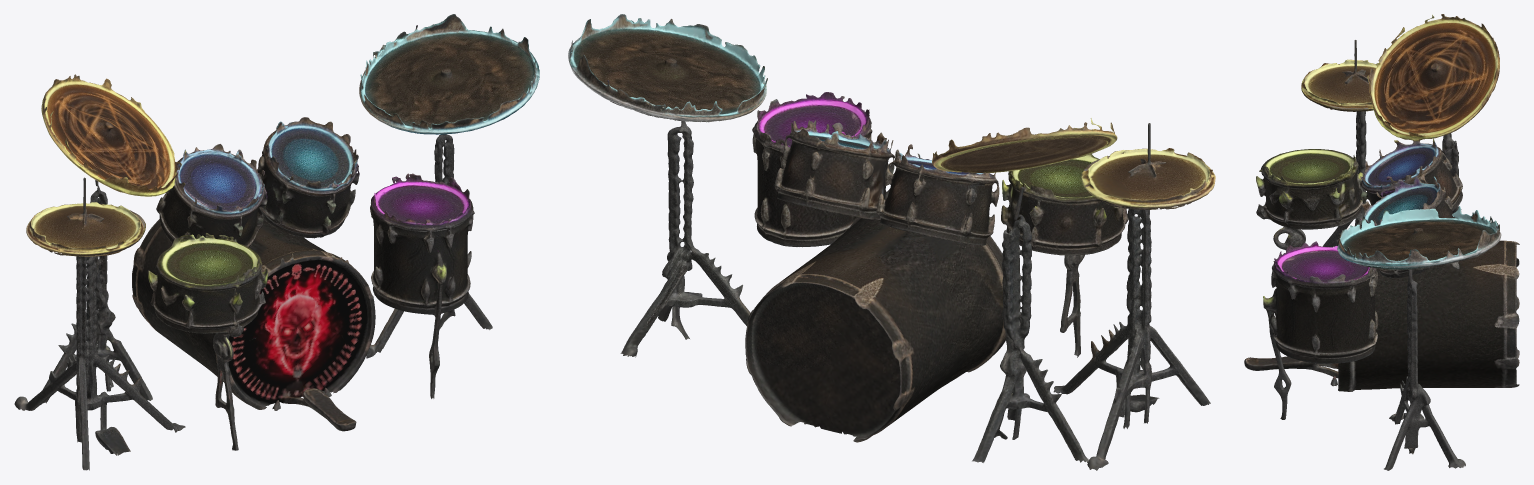
Rendered from bateria_pratos.glb.
The picture shows the model from 3 angles, left to right: view 1: azimuth 30°, elevation 25°; view 2: azimuth 150°, elevation 25°; view 3: azimuth 270°, elevation 25°; orthographic projection. The views are drawn at different scales.
Visible parts, largest first — view 1: kit_resto, ride, crash, chimbal; view 2: kit_resto, ride, chimbal, crash; view 3: kit_resto, crash, ride, chimbal.
Boxes of the visible parts, x1,y1,x2,y2 form: kit_resto: (14, 70, 492, 470); ride: (359, 14, 539, 134); crash: (41, 74, 171, 196); chimbal: (26, 183, 145, 256); kit_resto: (620, 61, 1210, 470); ride: (568, 14, 767, 122); chimbal: (1069, 148, 1215, 209); crash: (939, 118, 1117, 172); kit_resto: (1244, 40, 1519, 470); crash: (1367, 14, 1499, 134); ride: (1337, 206, 1501, 270); chimbal: (1301, 59, 1386, 111).
Size of the model in its own units: 1.84 by 1.03 by 0.9115.
Materials: 1 (1 with a texture image).
